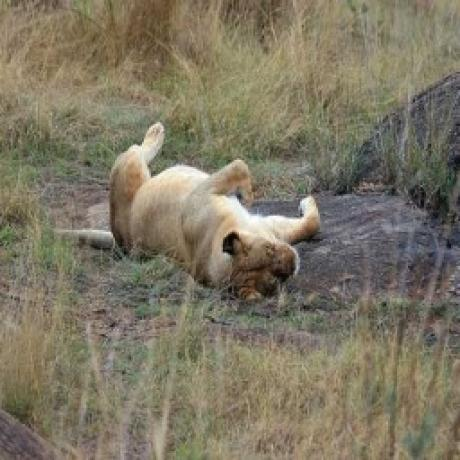Lion: (53, 121, 322, 307)
